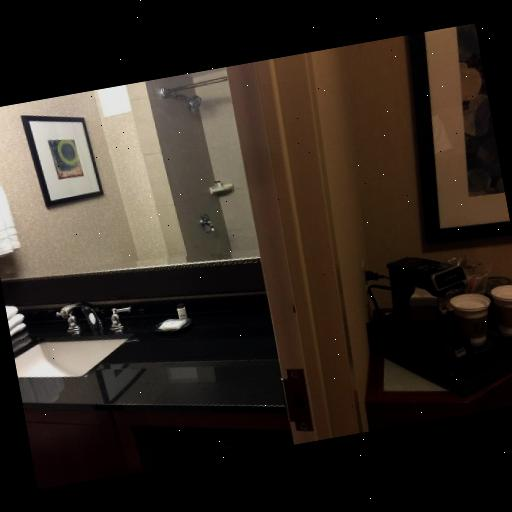clean mirror: (0, 68, 261, 276)
clean_sink: (10, 287, 281, 435)
